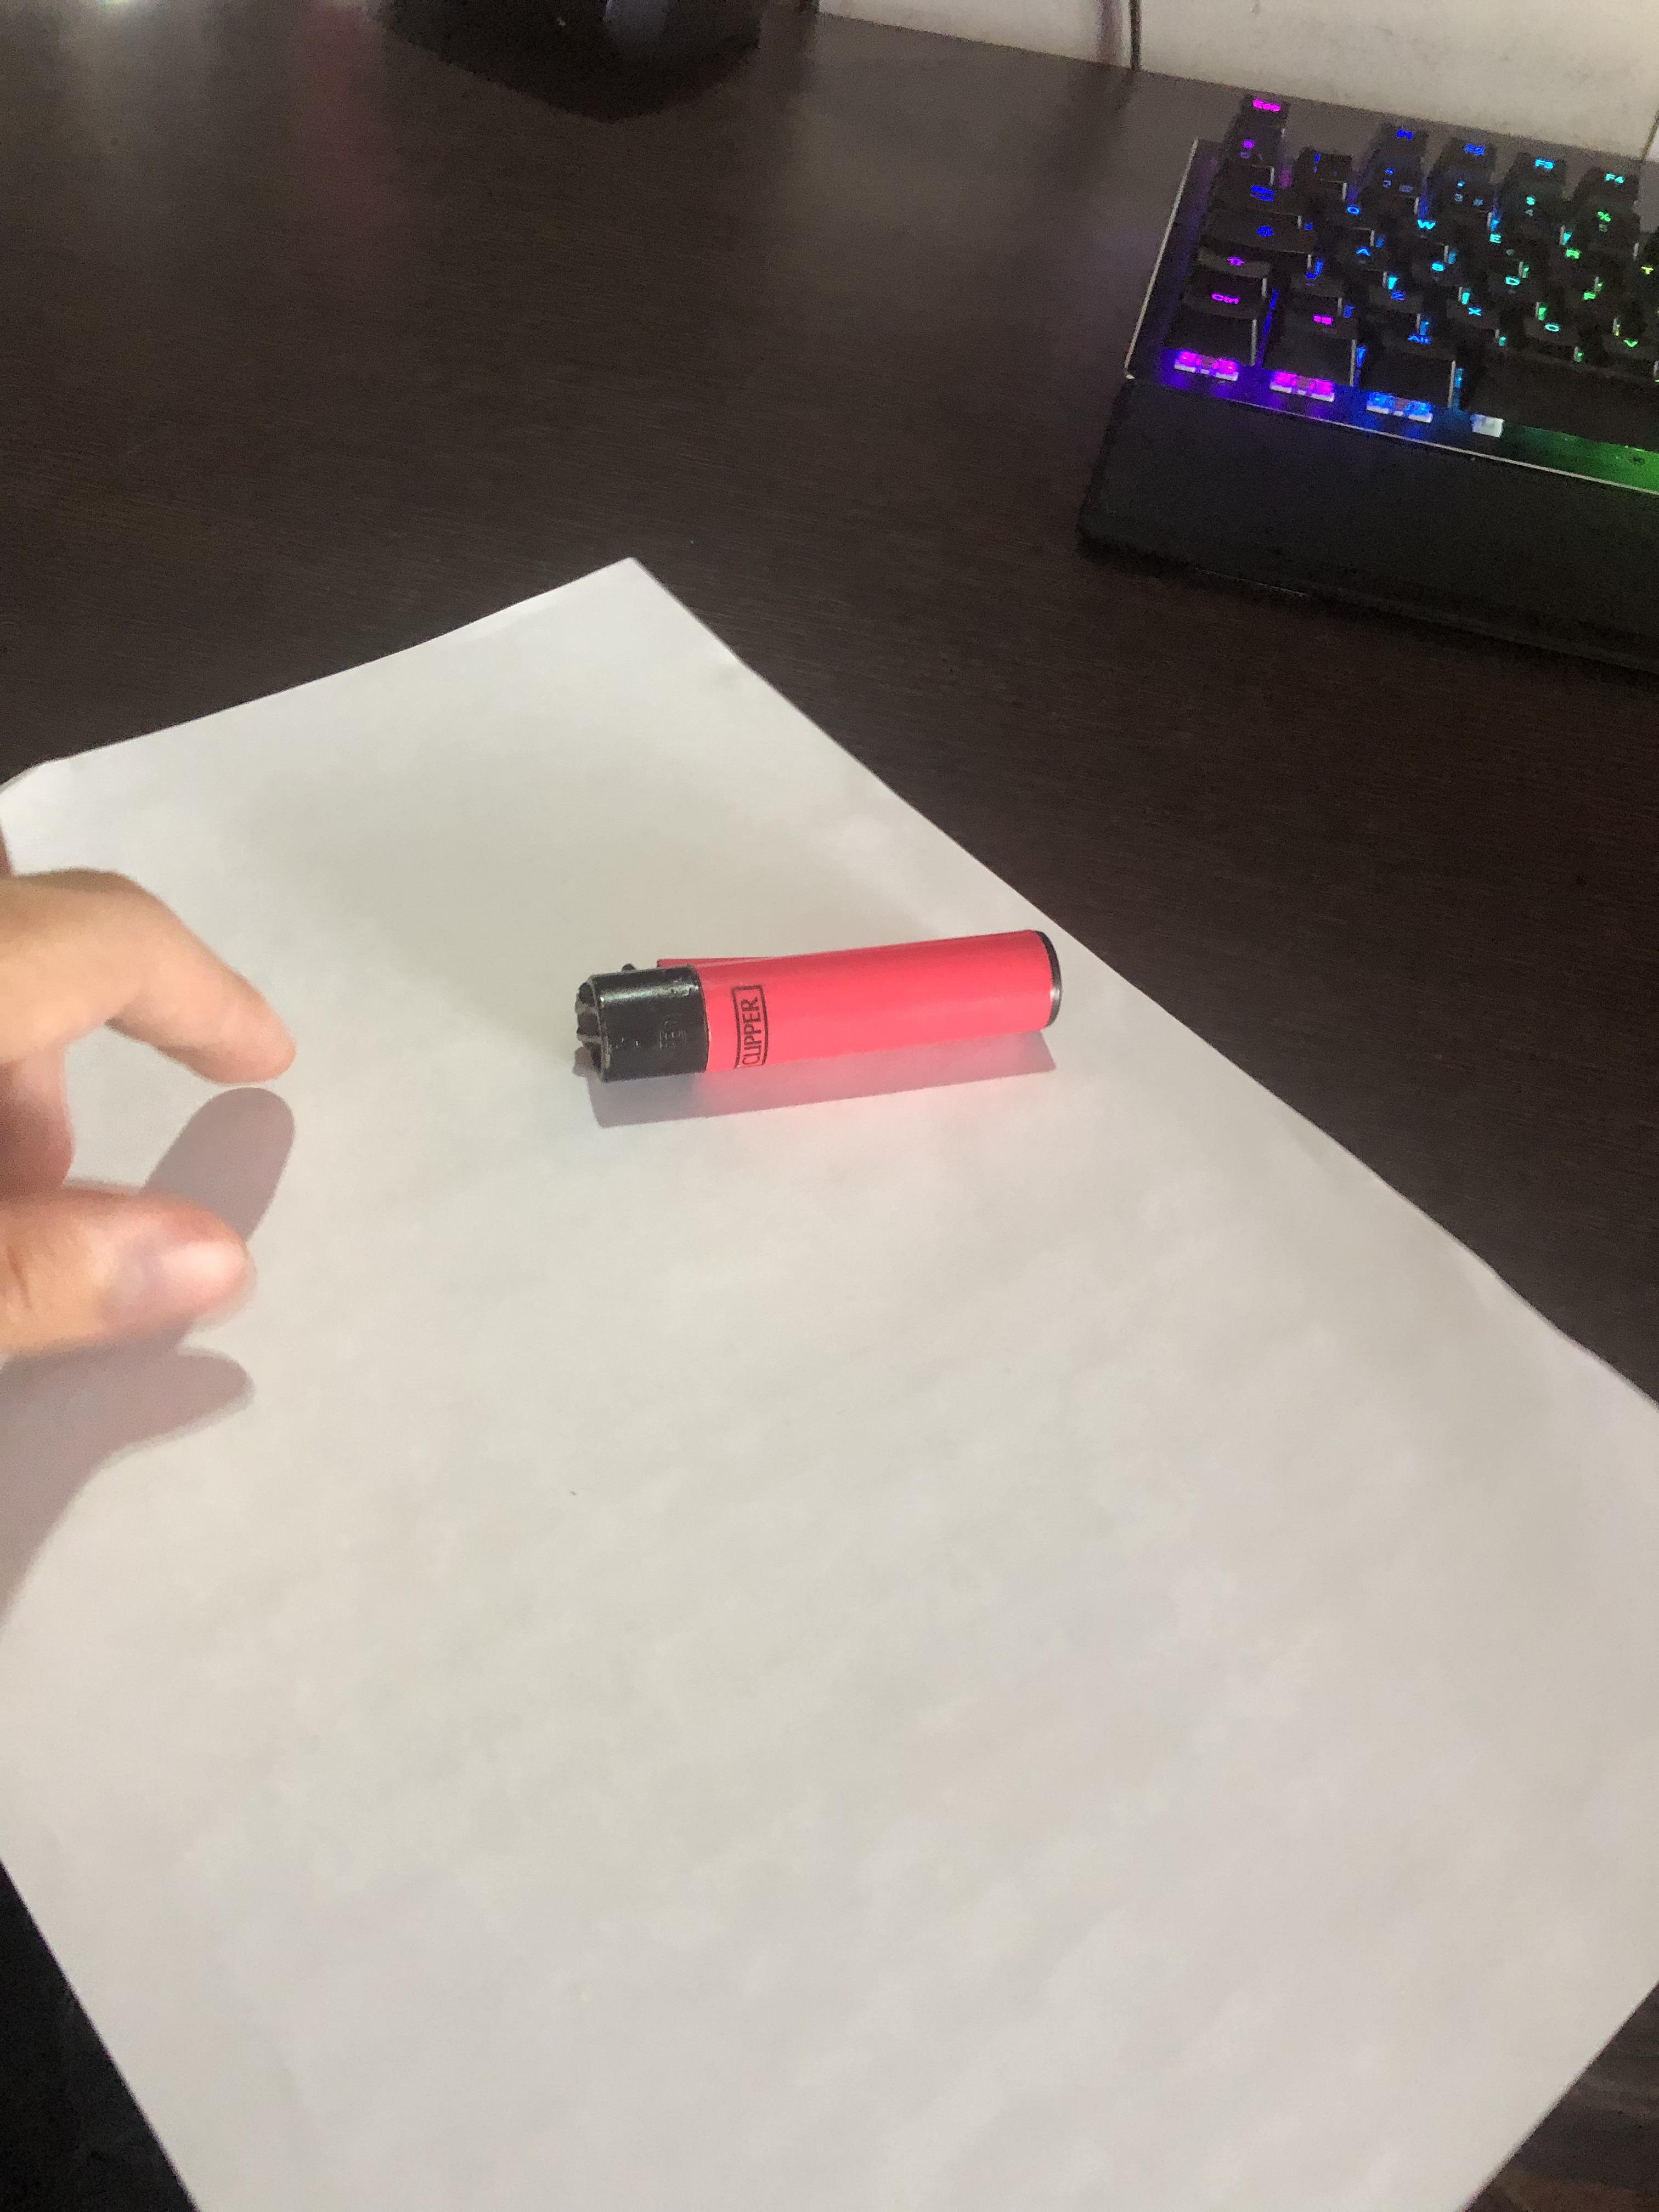Mechero: (504, 911, 1079, 1115)
